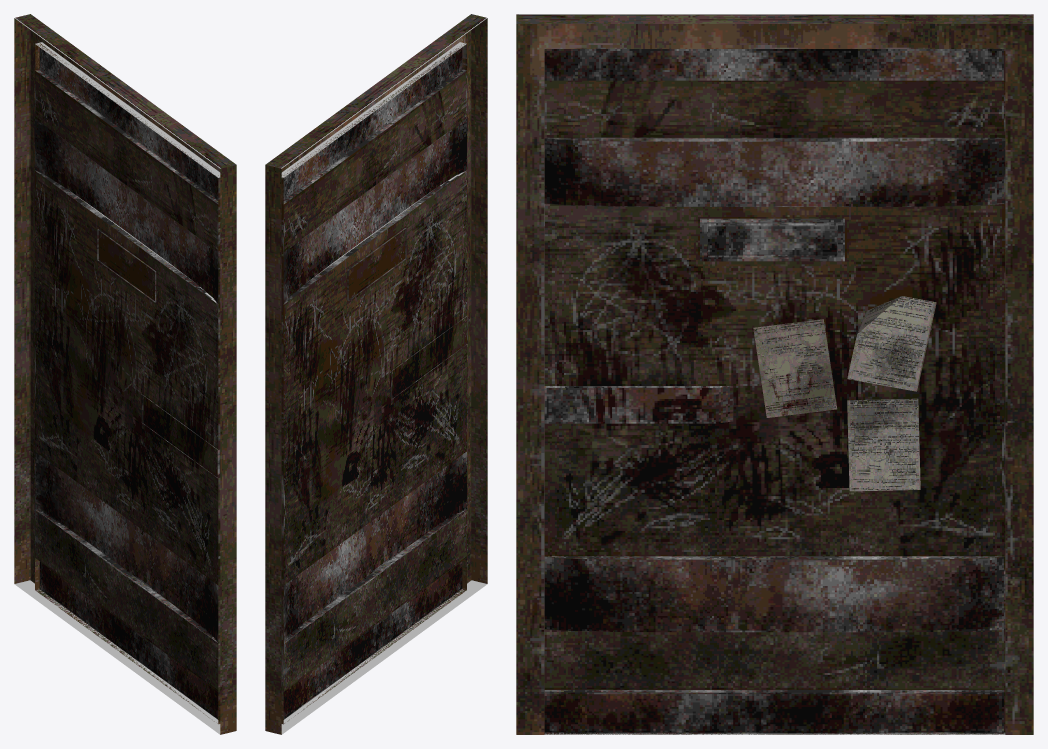
Rendered from Door.fbx.
3 views of the same model, side by side, from view 1: azimuth 30°, elevation 25°; view 2: azimuth 150°, elevation 25°; view 3: azimuth 270°, elevation 25° (orthographic). The views are drawn at different scales.
Parts seen in each view (by area): view 1: Door; view 2: Door; view 3: Door.
Part boxes in pixels (left/top/right/bottom): Door: left=14, top=14, right=236, bottom=734; Door: left=265, top=14, right=487, bottom=734; Door: left=516, top=14, right=1033, bottom=734.
Size of the model in its own units: 13.05 by 231 by 153.
Materials: 1 (1 with a texture image).
